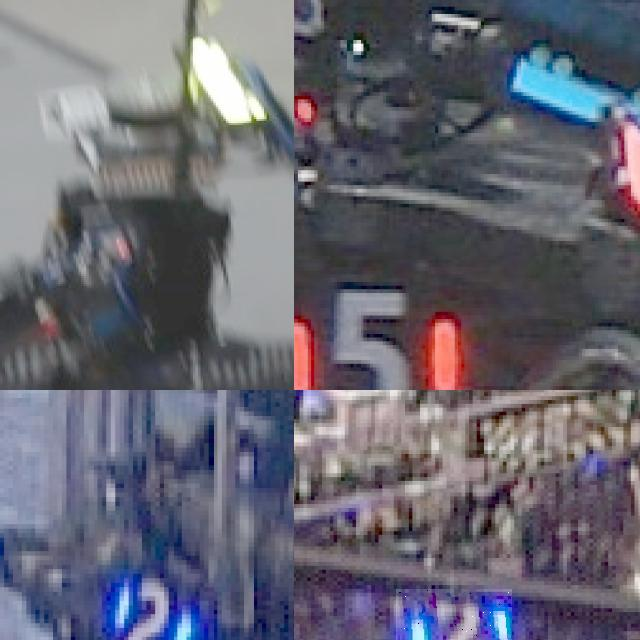B2: (395, 588, 512, 640), (111, 565, 191, 640)
R5: (294, 276, 470, 390)
